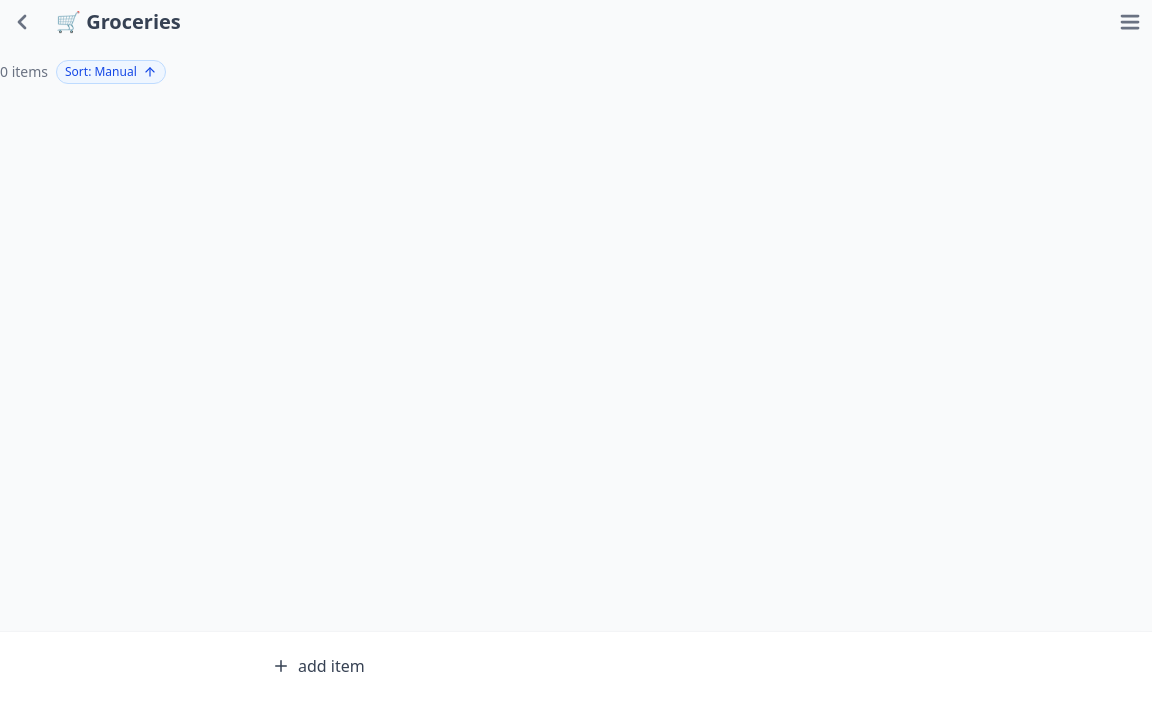
ListPage menu presentation › keeps failed list deletion visible and prevents duplicate submissions while pending
Click the button named "List options" at (1130, 22), box [1108,0,1151,44]
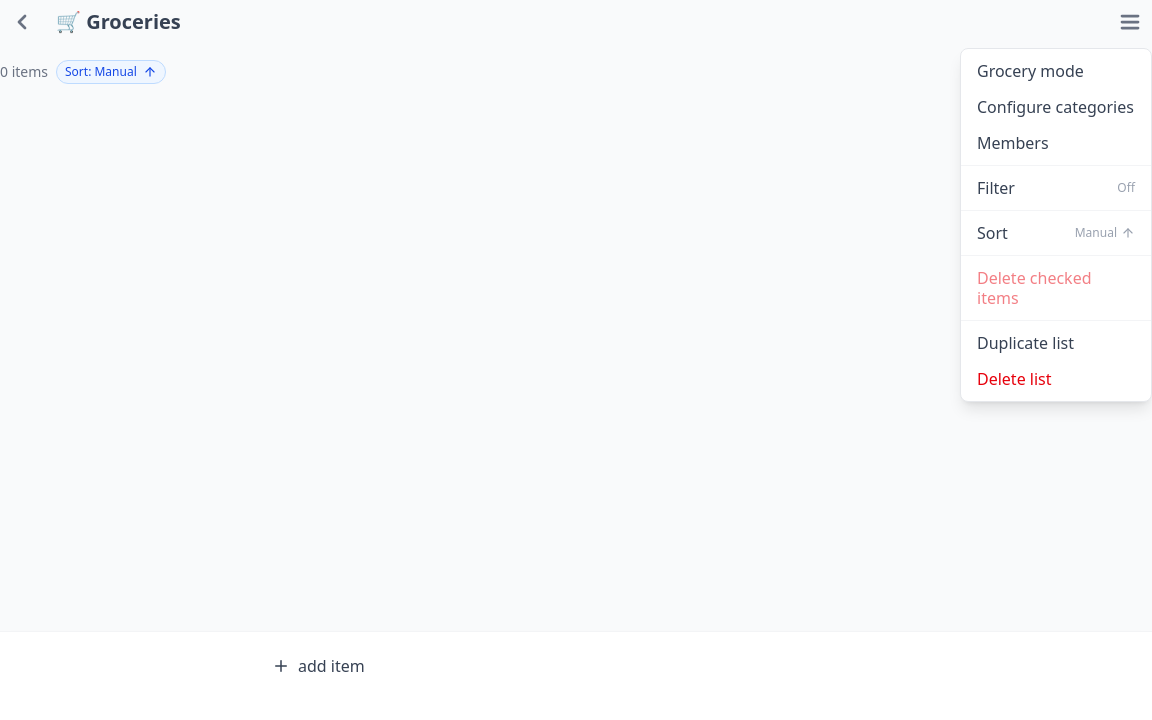
Click the button "Delete list" at (1056, 379), box [961,361,1151,397]
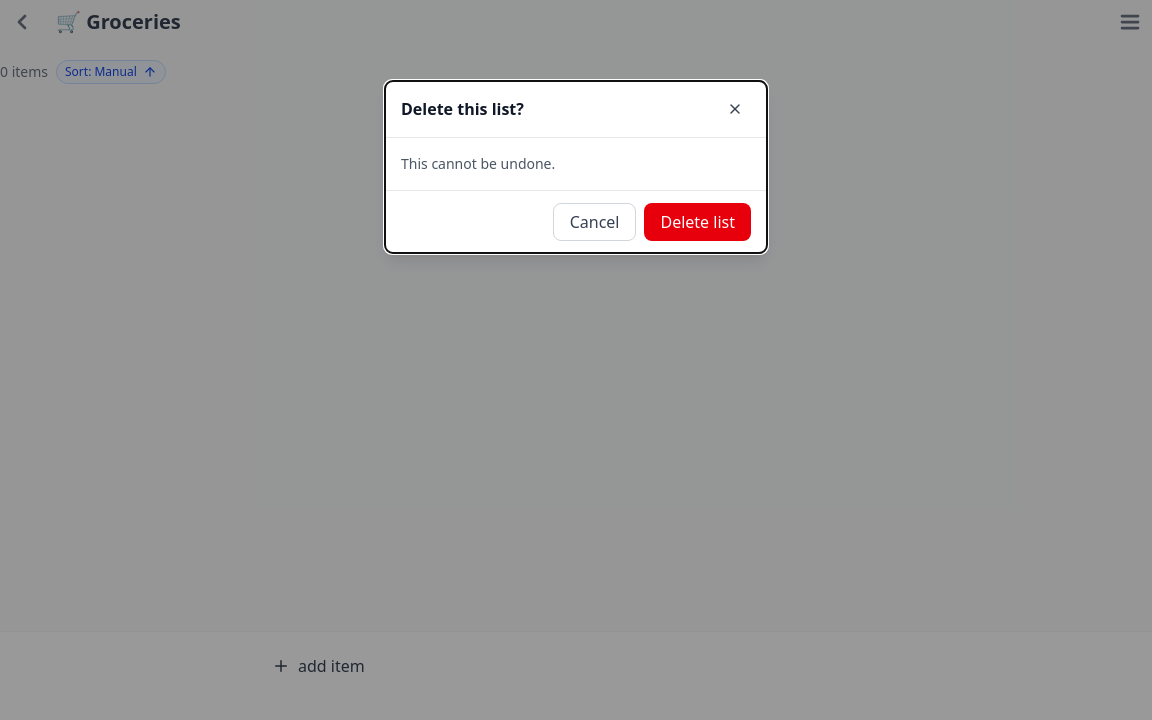
Click the button "Delete list" at (698, 222), box [644,203,751,241]
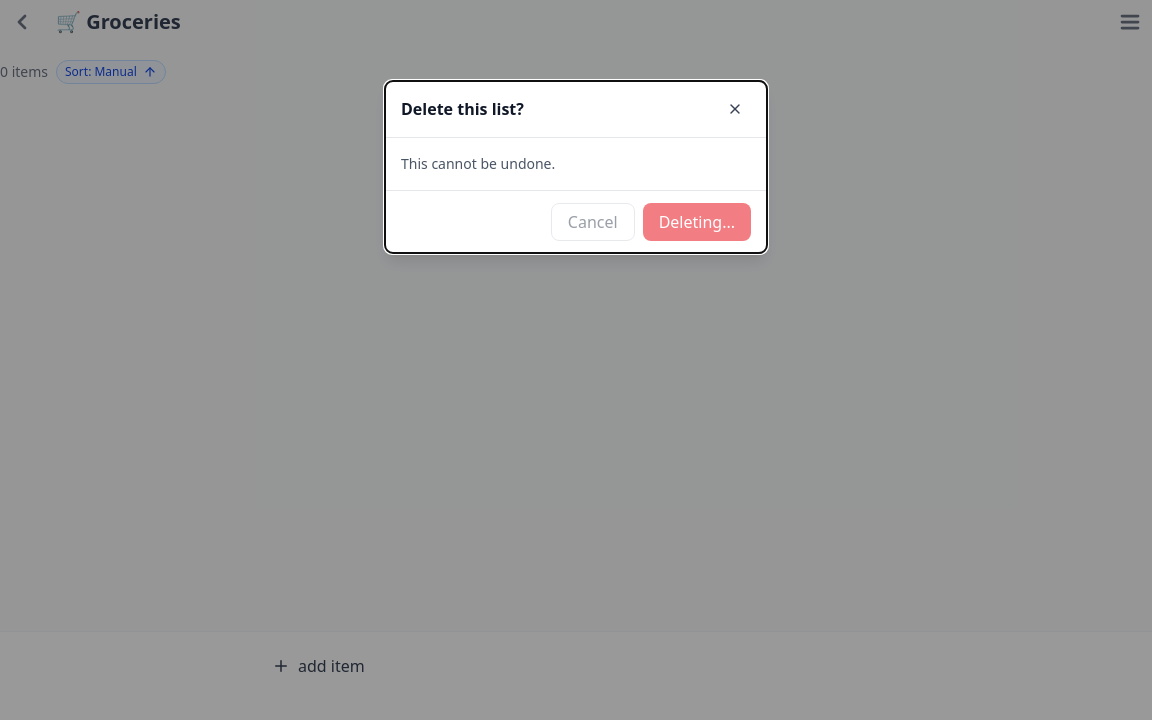
Check: the button "Deleting..." is disabled
Click the button "Deleting..." at (697, 222), box [643,203,751,241]
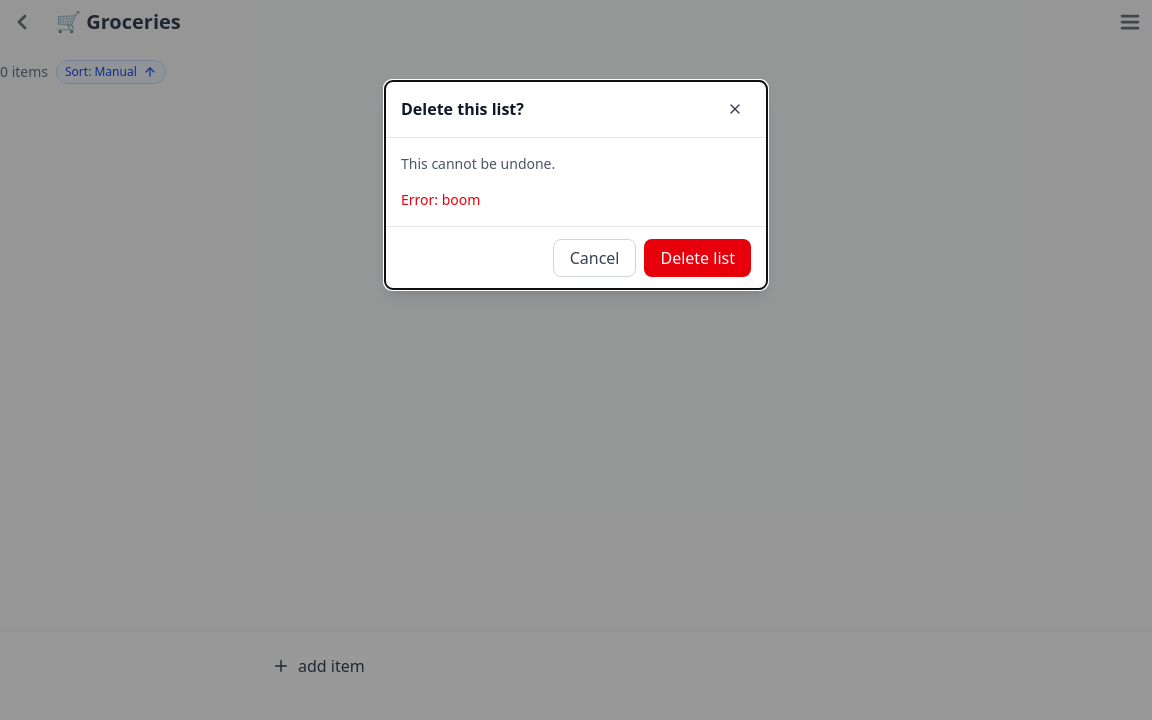
Check: the dialog "Delete this list?" is shown, box [384,80,768,290]
Check: the text "Error: boom" is shown, box [401,190,480,209]
Check: the button "Delete list" is enabled, box [644,239,751,277]
